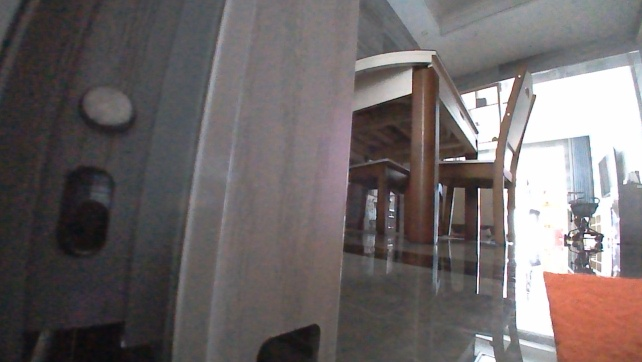blanket: (539, 267, 641, 361)
dining_table: (347, 39, 539, 245)
